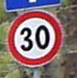limite 30: (6, 9, 63, 67)
